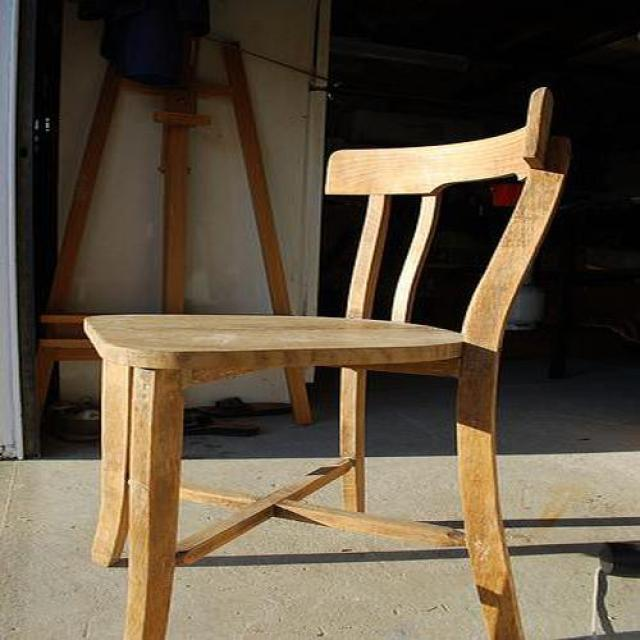chair: (83, 88, 573, 640)
